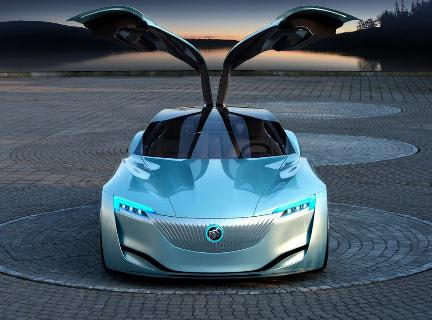别克-Riviera: (93, 104, 334, 287)
